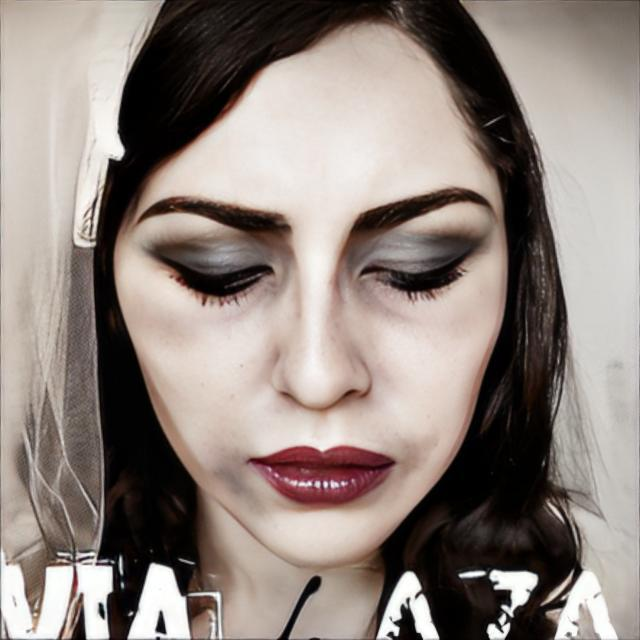sad: (112, 11, 511, 564)
